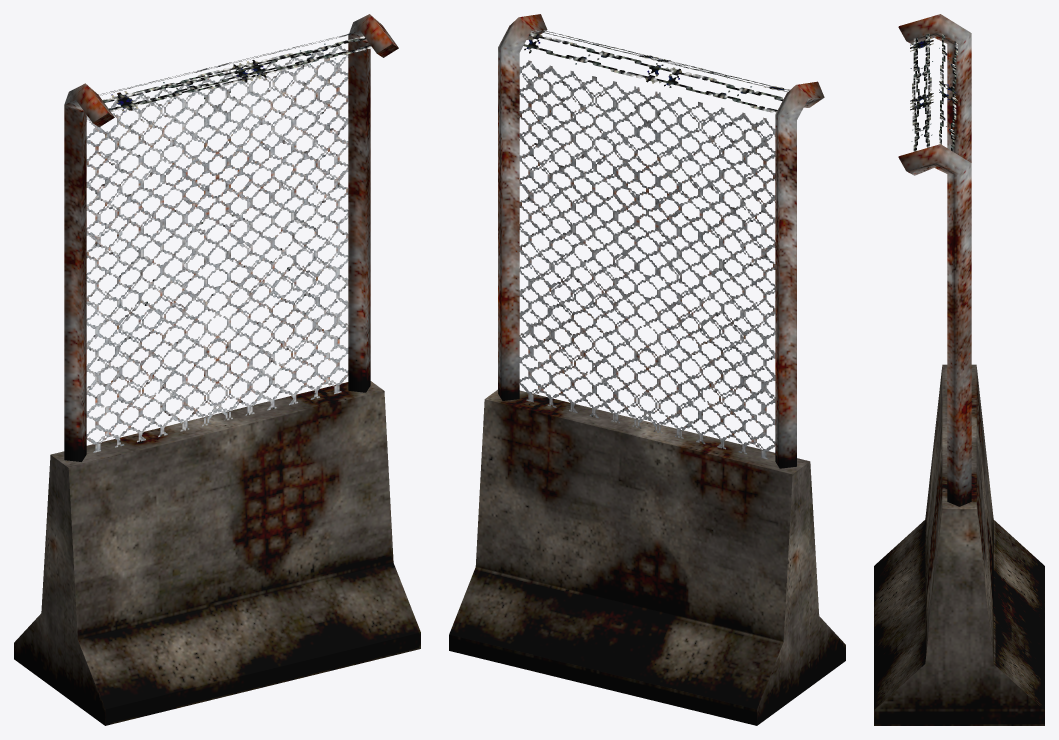
Rendered from ConcreteBarrierWithFenceDemaged.fbx.
3 renders of one model, left to right at view 1: azimuth 30°, elevation 25°; view 2: azimuth 150°, elevation 25°; view 3: azimuth 270°, elevation 25°, orthographic. The views are drawn at different scales.
Parts seen in each view (by area): view 1: ConcreteBarrierWithFenceDemaged; view 2: ConcreteBarrierWithFenceDemaged; view 3: ConcreteBarrierWithFenceDemaged.
Boxes of the visible parts, box(x1,y1,x2,y2) form: ConcreteBarrierWithFenceDemaged: box(14, 14, 420, 725); ConcreteBarrierWithFenceDemaged: box(449, 14, 845, 725); ConcreteBarrierWithFenceDemaged: box(874, 14, 1044, 725).
Size of the model in its own units: 200 by 371 by 100.
